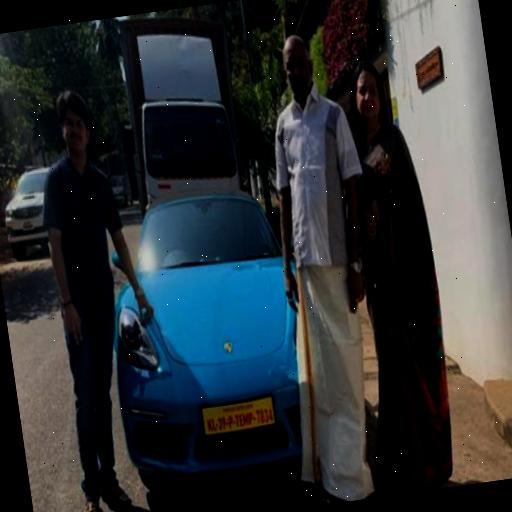number plate: (200, 398, 278, 440)
